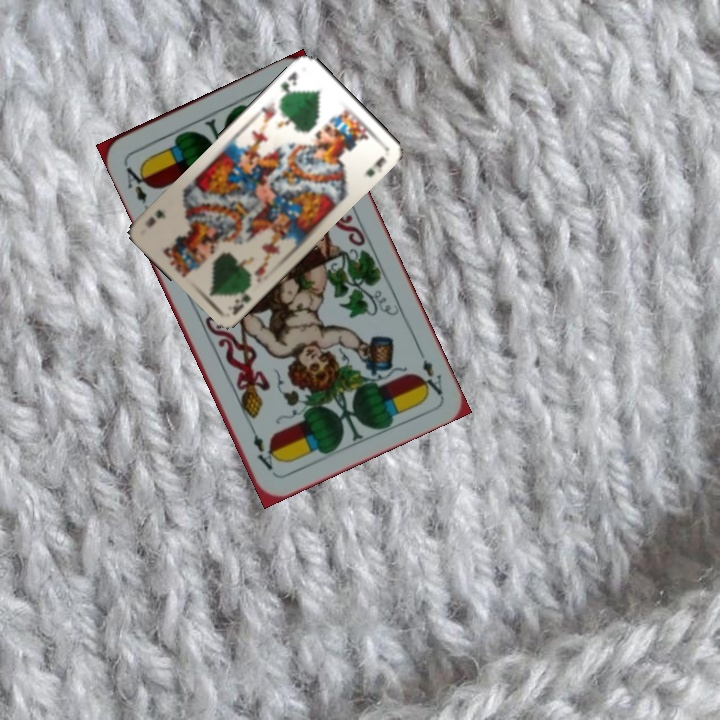EA: (413, 342, 445, 399), (119, 158, 153, 207)
GK: (228, 282, 253, 318), (277, 67, 300, 101)
